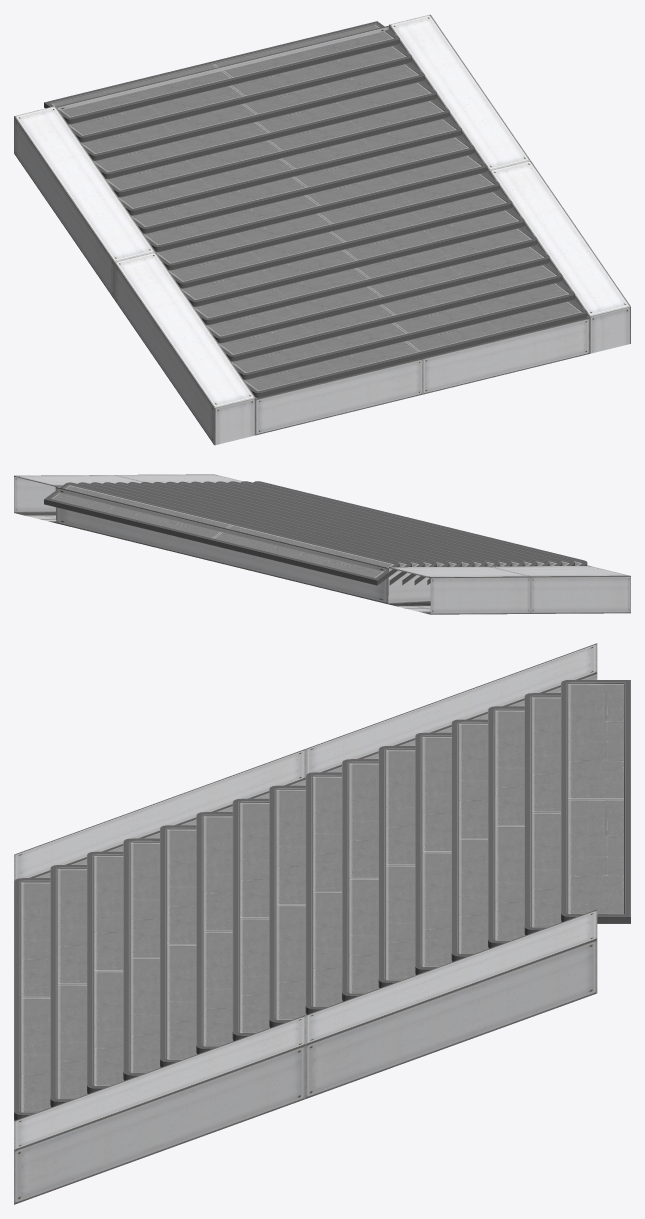
File: Neon_Stairs_S_B.FBX
3 views of the same model, one above another, from view 1: azimuth 30°, elevation 25°; view 2: azimuth 150°, elevation 25°; view 3: azimuth 270°, elevation 25° (orthographic). The views are drawn at different scales.
Parts seen in each view (by area): view 1: Neon_Stairs_S_B; view 2: Neon_Stairs_S_B; view 3: Neon_Stairs_S_B.
Part boxes in pixels (bbox=[...]): Neon_Stairs_S_B: bbox=[14, 14, 630, 445]; Neon_Stairs_S_B: bbox=[14, 474, 630, 614]; Neon_Stairs_S_B: bbox=[14, 643, 630, 1204].
Bounding box in the file's own units: 6 × 2.51 × 5.29.
